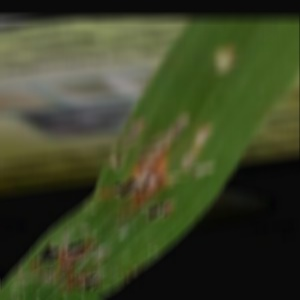Brown_Spot: (28, 228, 98, 275), (102, 112, 154, 173), (52, 265, 123, 300), (107, 172, 173, 205), (136, 192, 181, 227)
